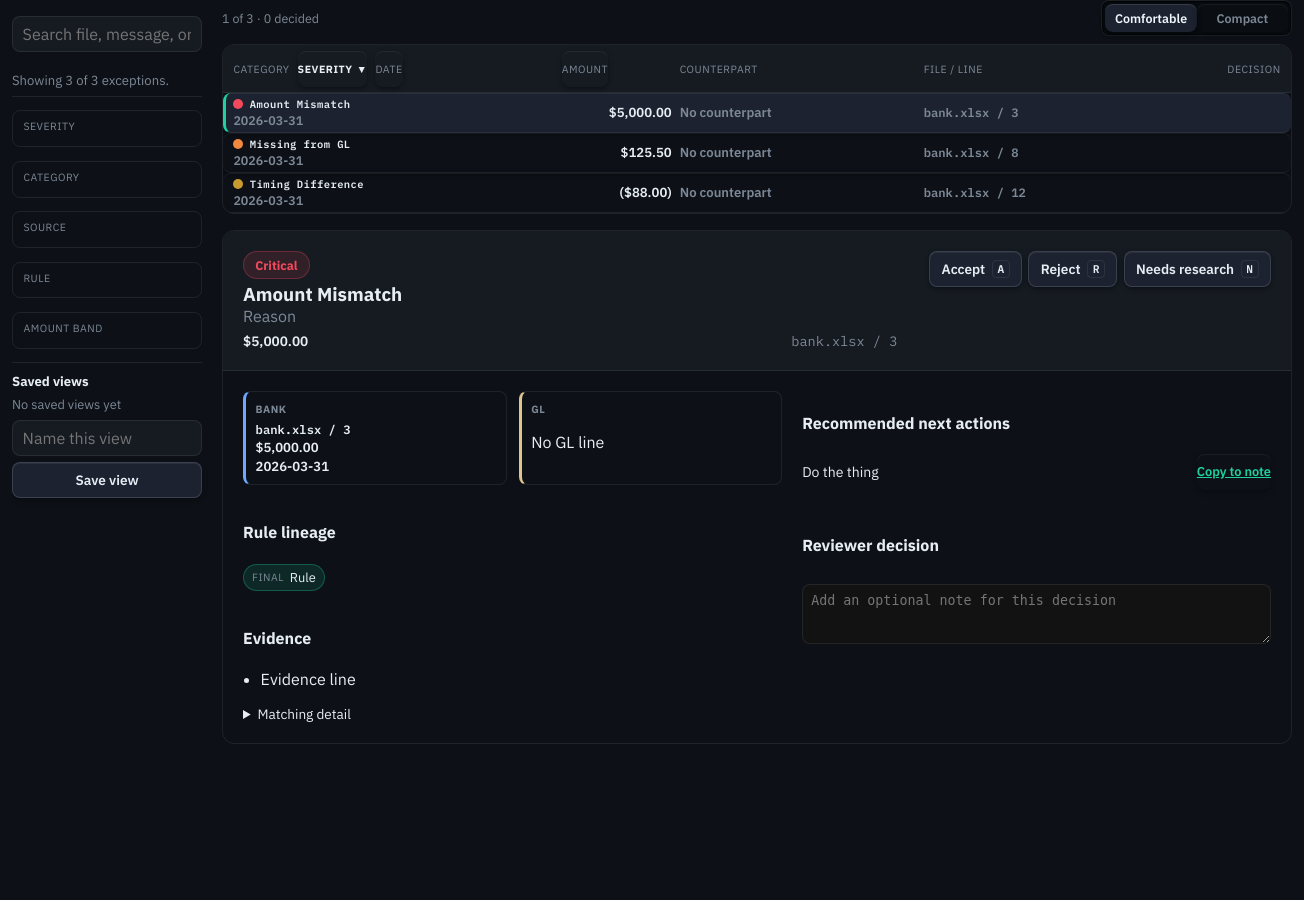
clean run vs filtered to nothing (UI-10, #449) › still offers the filter advice when a filter is what emptied the list
The width and height of the screenshot is (1304, 900).
Type "zzzz-no-such-exception" into the field named "Search exceptions" at point(107, 34), box [12, 16, 202, 52]
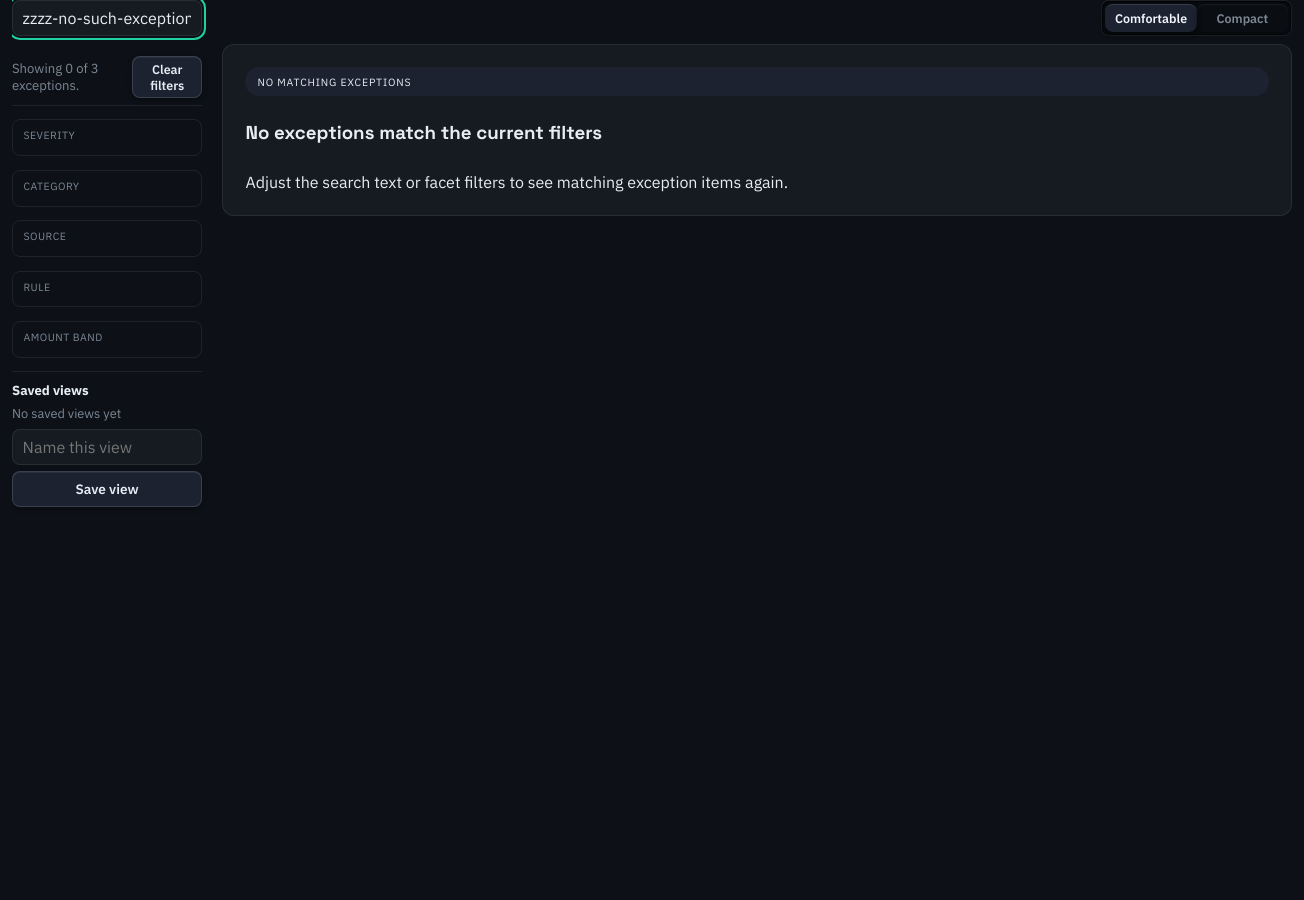
Expected: the heading "No exceptions match the current filters" is shown, [245, 121, 602, 144]
Expected: the text "This run produced no exceptions" is gone
